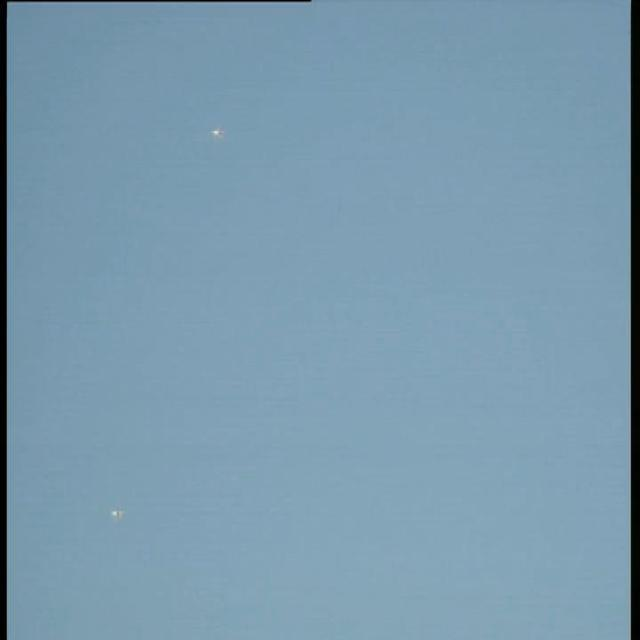drone: (101, 500, 129, 526), (204, 118, 228, 142)
